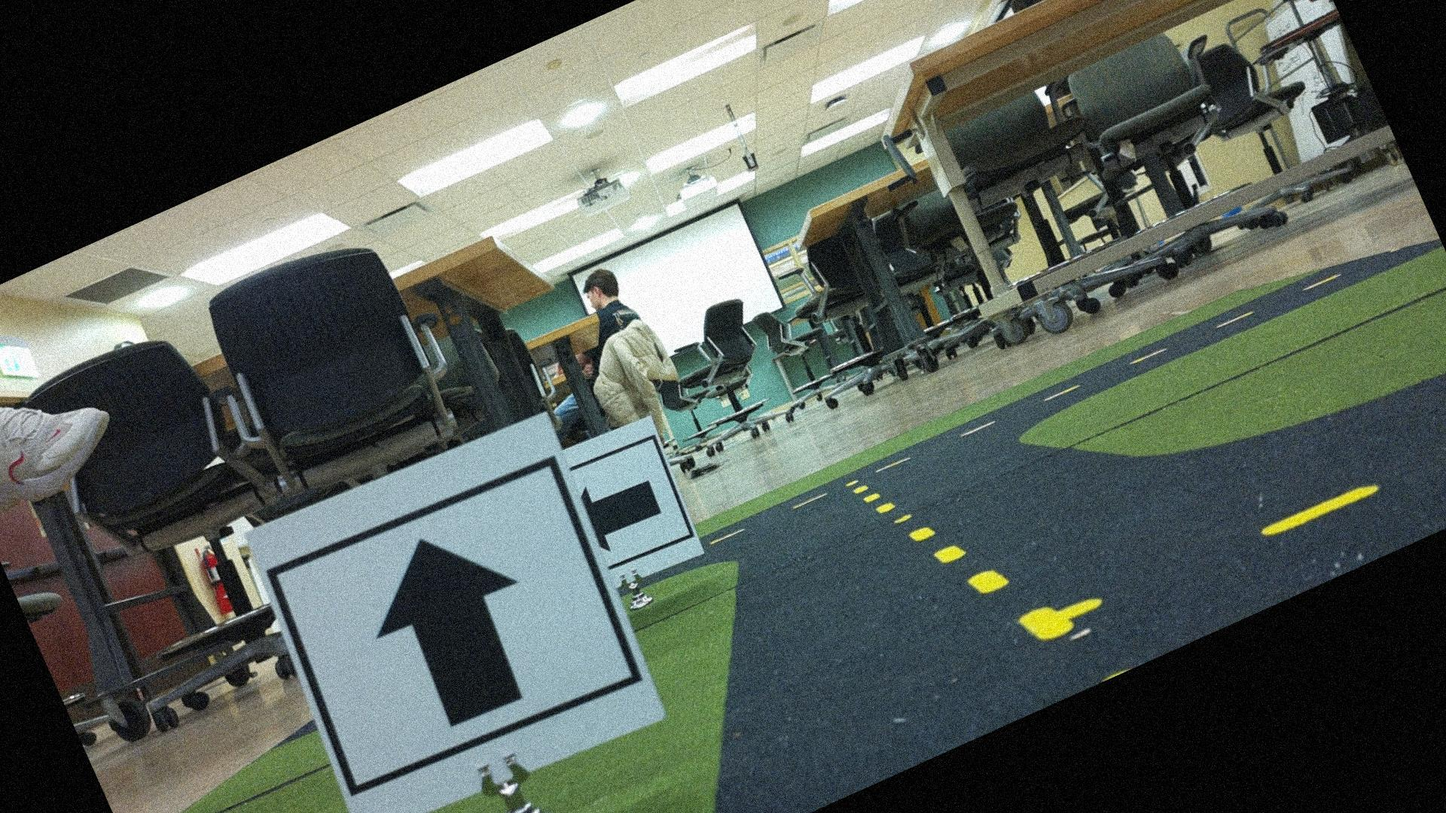gostraight: (254, 422, 670, 812)
yellowline: (843, 422, 1074, 696)
